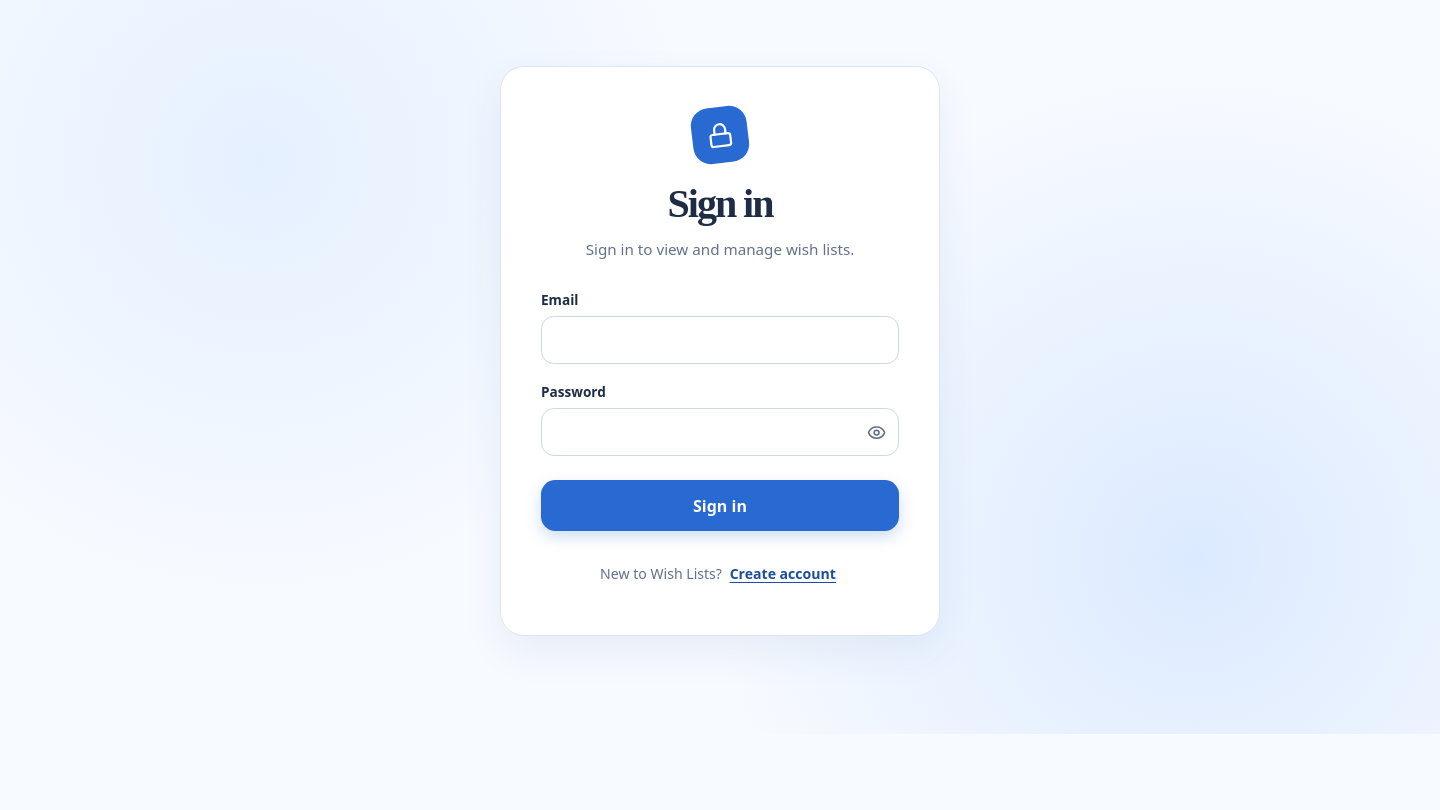
Scenario: sign-up rejects mismatched passwords before contacting Supabase
Click the button "Create account" at (783,573), box [726,551,840,595]
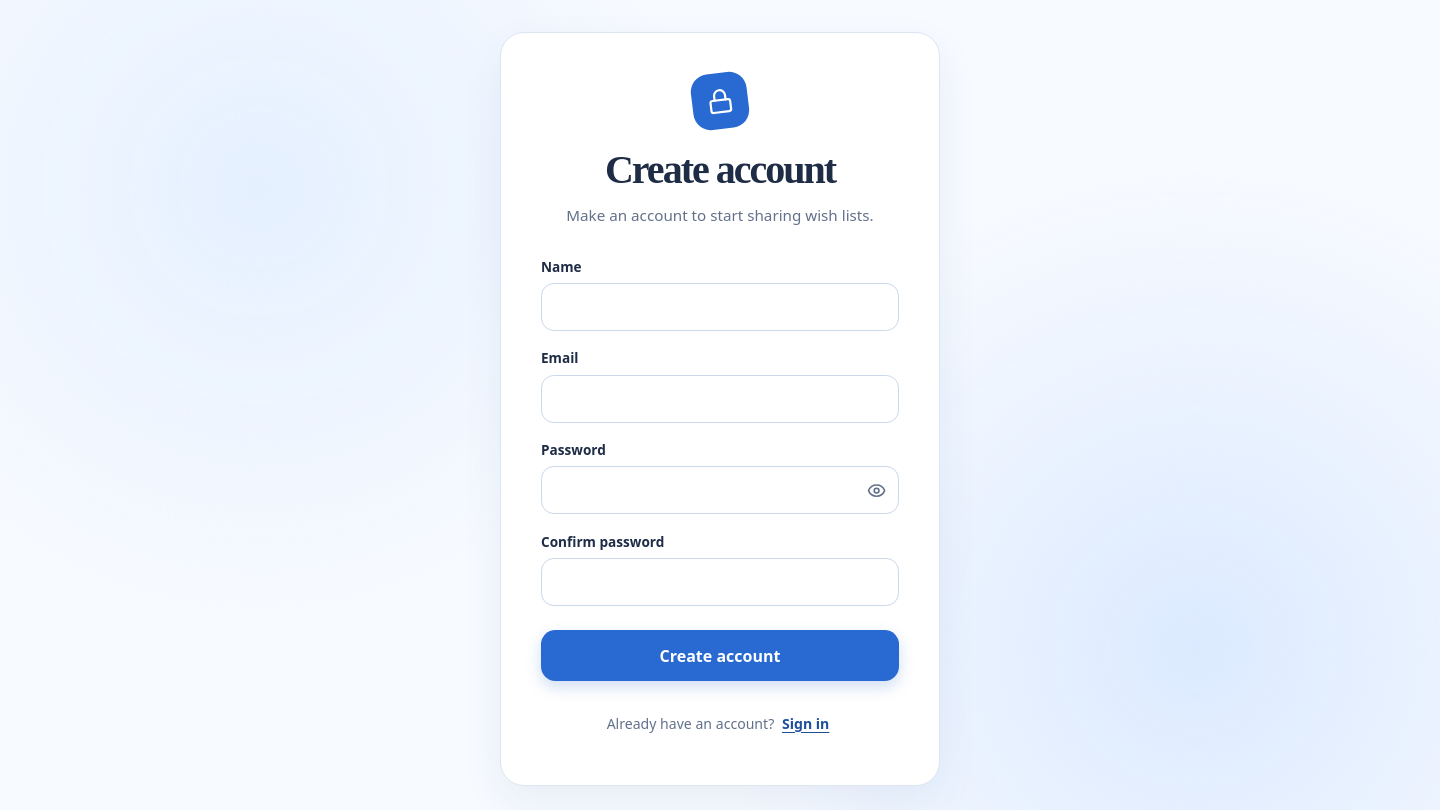
Type "Alex" into the field labelled "Name" at (720,307), box [541,283,899,331]
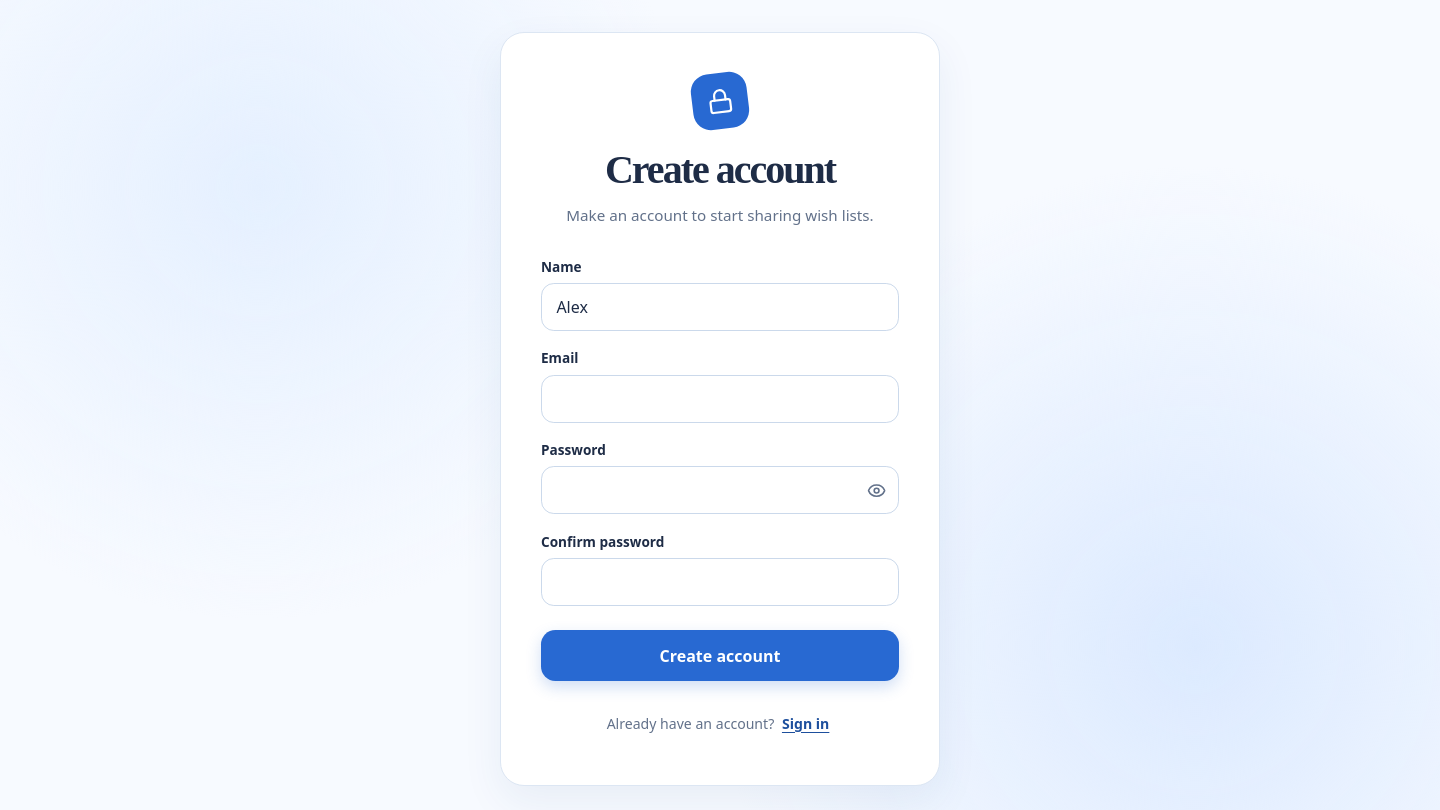
Type "alex@example.com" into the field labelled "Email" at (720,398), box [541,374,899,422]
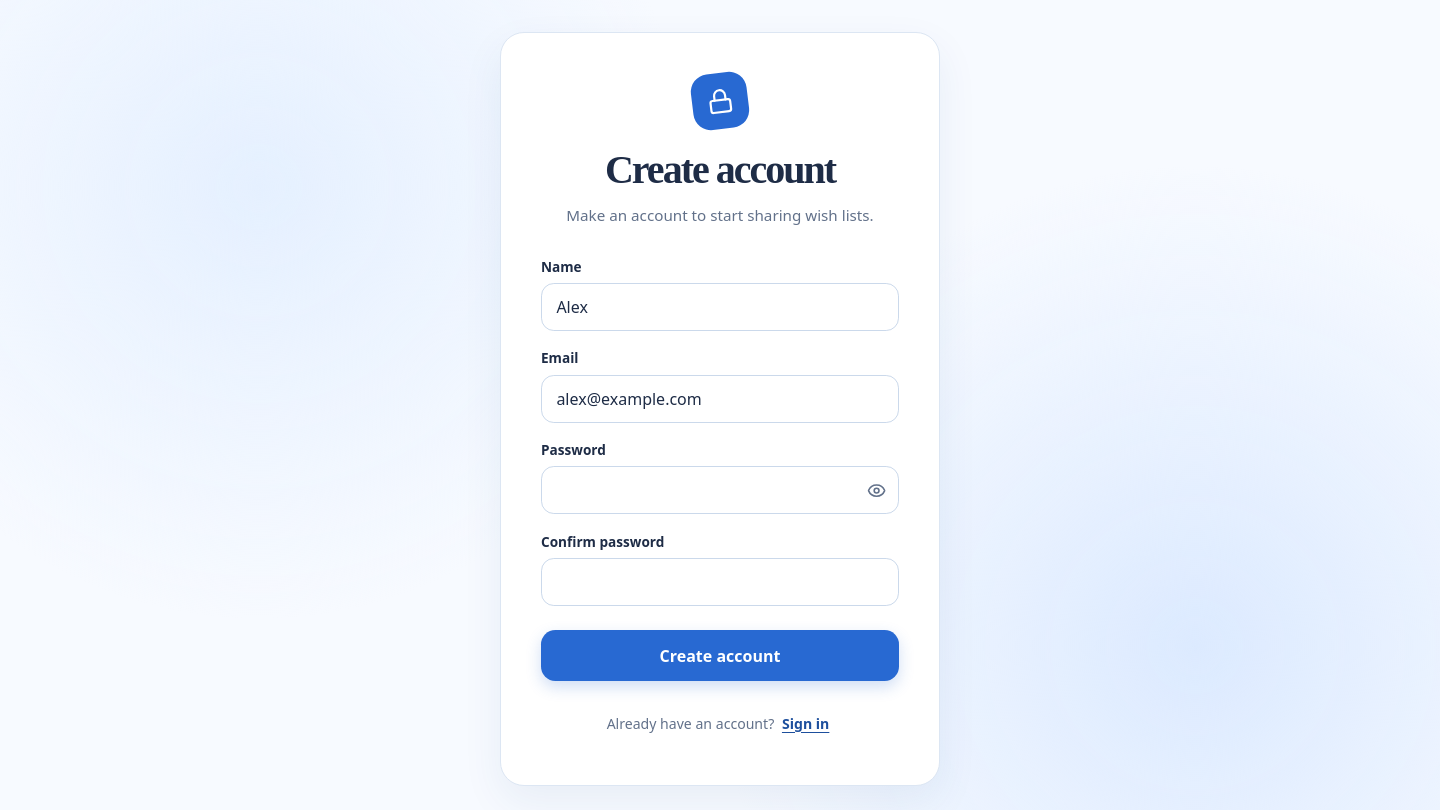
Type "Example-Test-Password-8" into the password field labelled "Password" at (720,490), box [541,466,899,514]
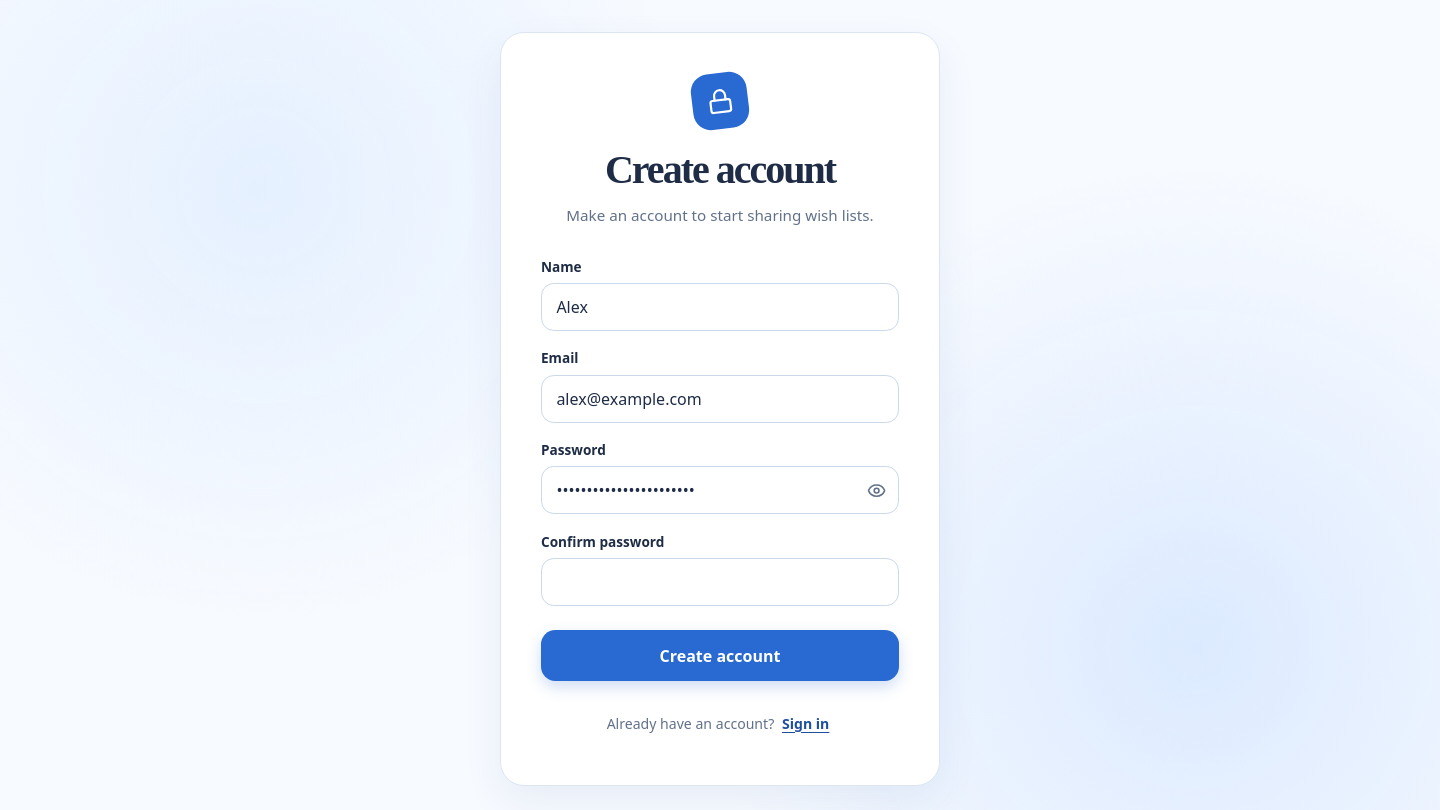
Type "different123" into the password field labelled "Confirm password" at (720,582), box [541,558,899,606]
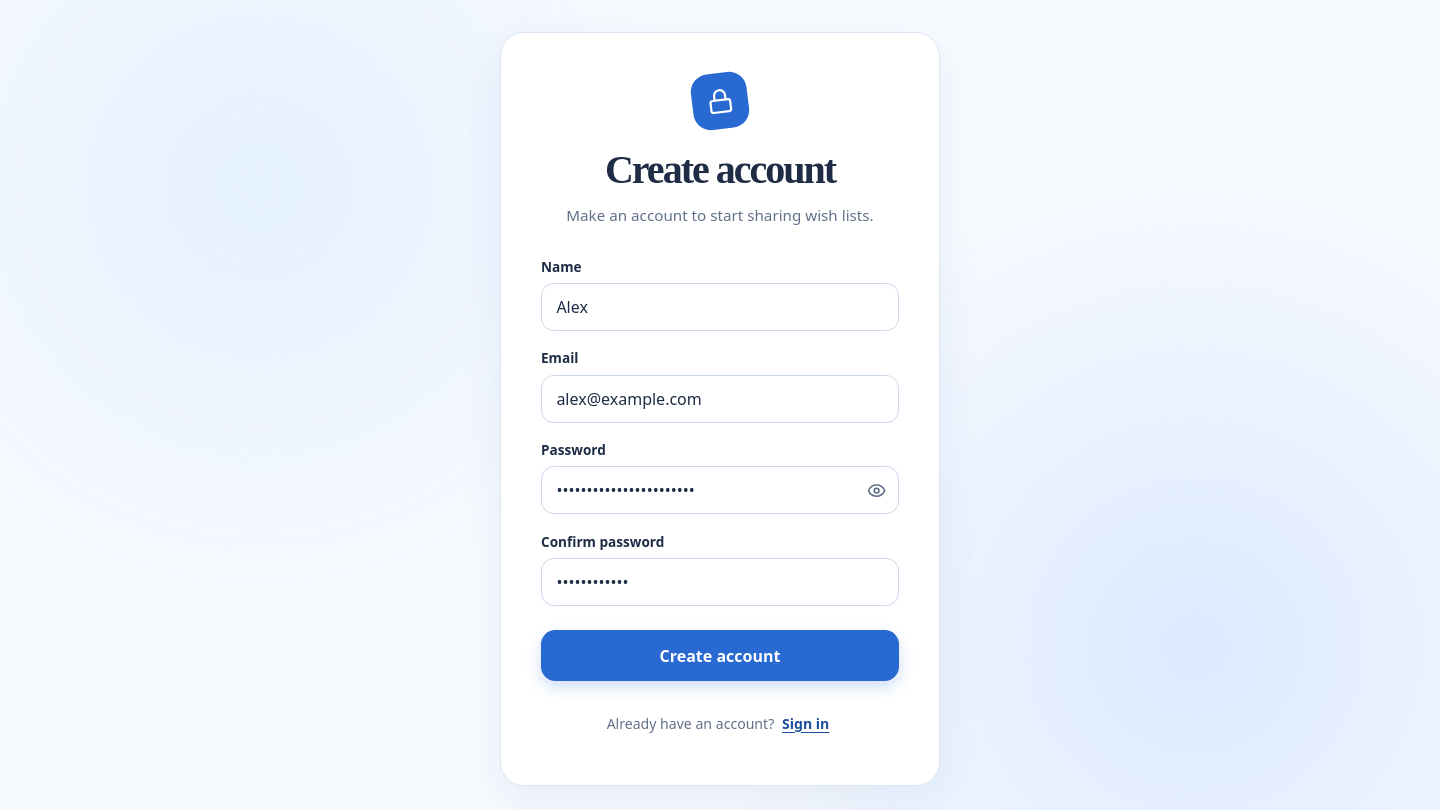
Click the button "Create account" at (720,656), box [541,630,899,681]
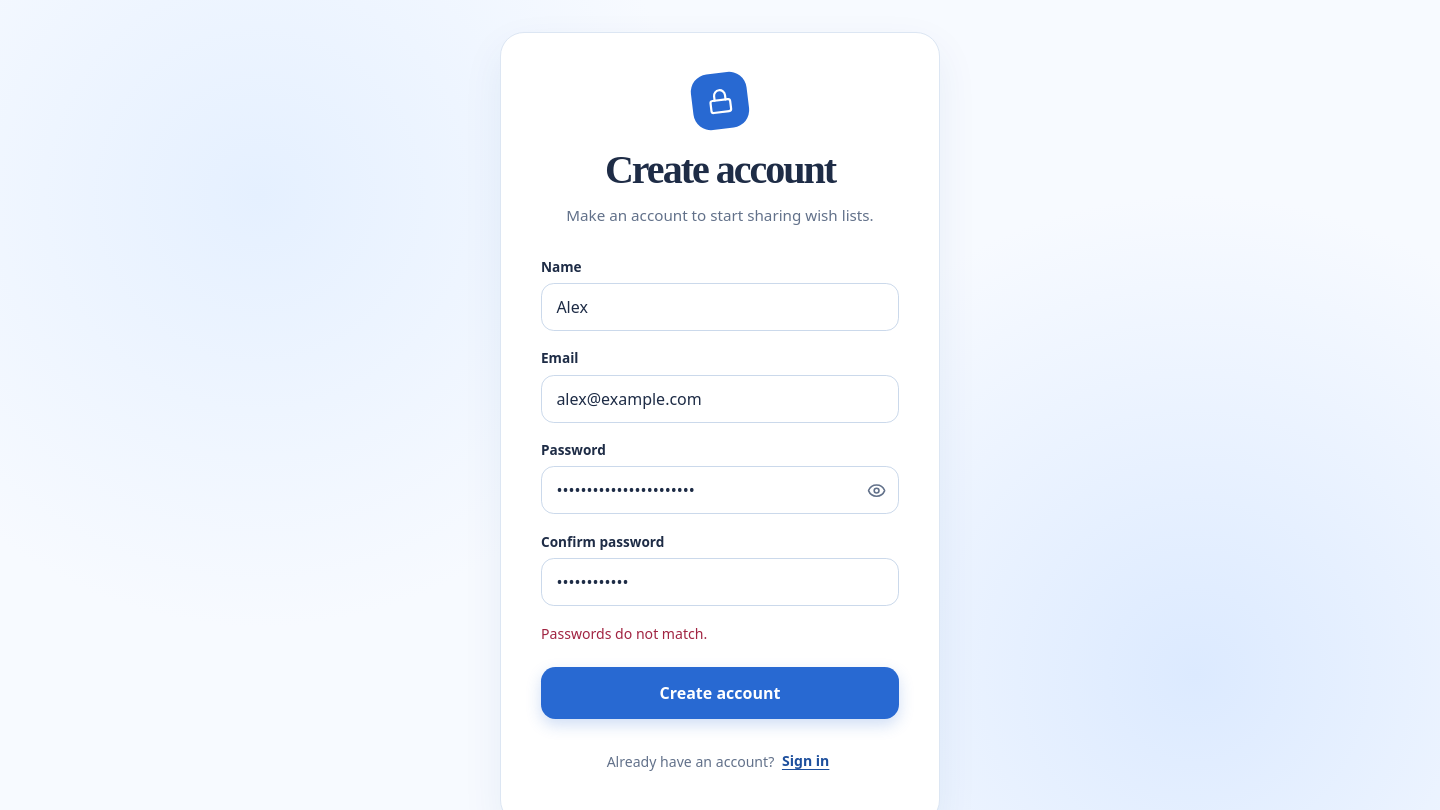
Expected: the message shows "Passwords do not match", [541,624,707,643]
